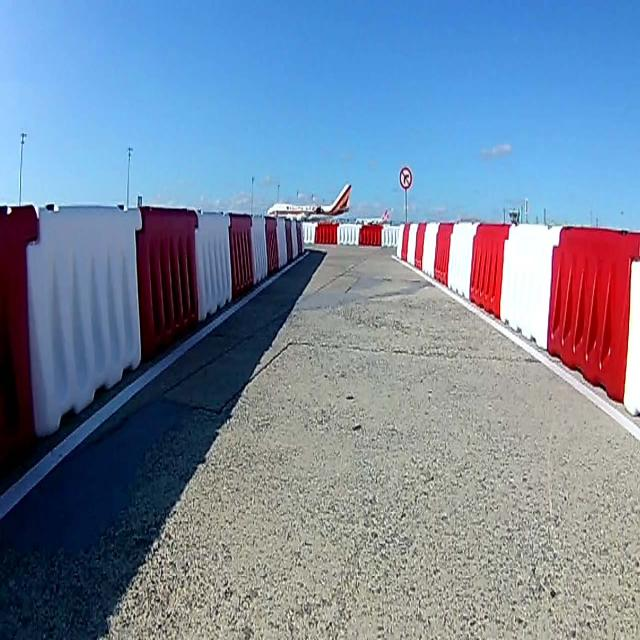sagadonulmez: (400, 168, 412, 188)
